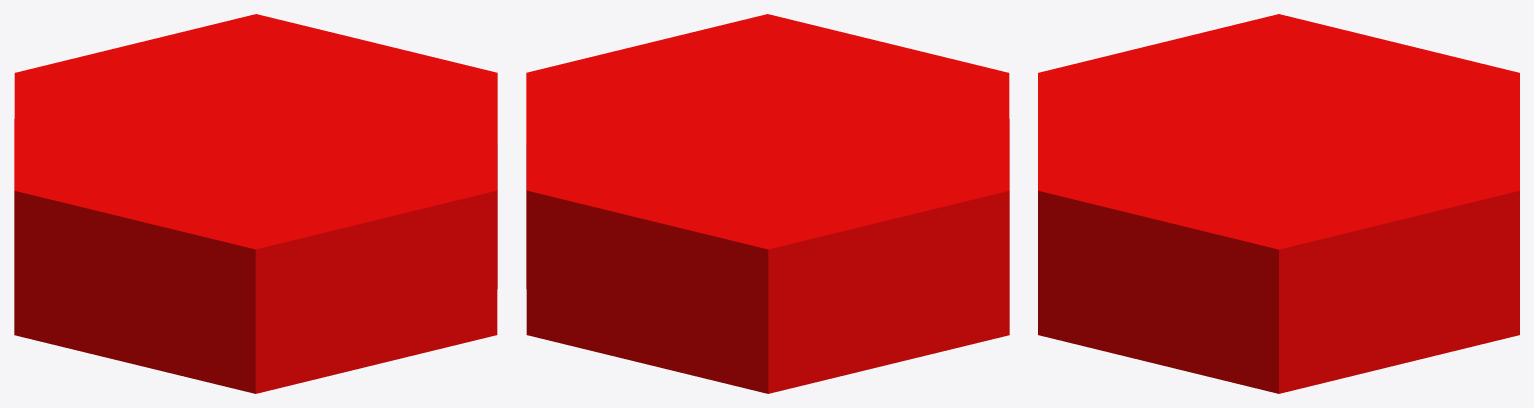
The model's file is hexagon.dae.
3 renders of one model, left to right at view 1: azimuth 30°, elevation 25°; view 2: azimuth 150°, elevation 25°; view 3: azimuth 270°, elevation 25°, orthographic.
Parts seen in each view (by area): view 1: Hexagon; view 2: Hexagon; view 3: Hexagon.
Part boxes in pixels (left/top/right/bottom): Hexagon: left=14, top=14, right=497, bottom=393; Hexagon: left=526, top=14, right=1009, bottom=393; Hexagon: left=1038, top=14, right=1519, bottom=393.
Bounding box in the file's own units: 0.07 × 0.0605 × 0.02.
